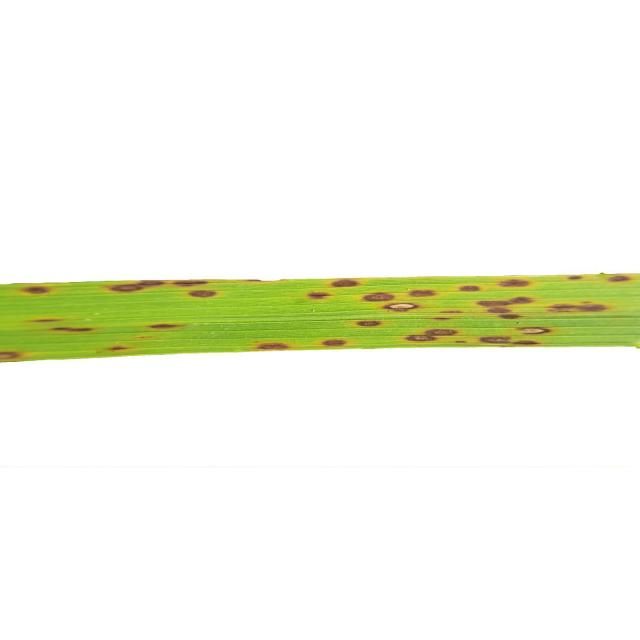Brown spot: (2, 251, 640, 379)
